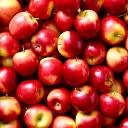apple: (1, 94, 21, 122)
